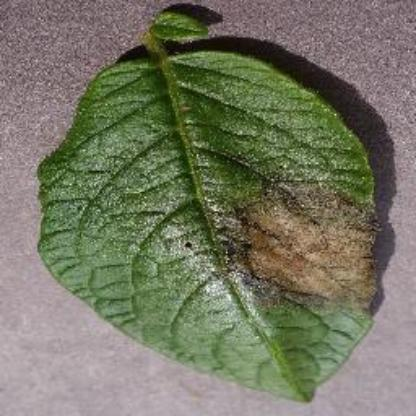Late-Blight: (33, 11, 391, 403)
